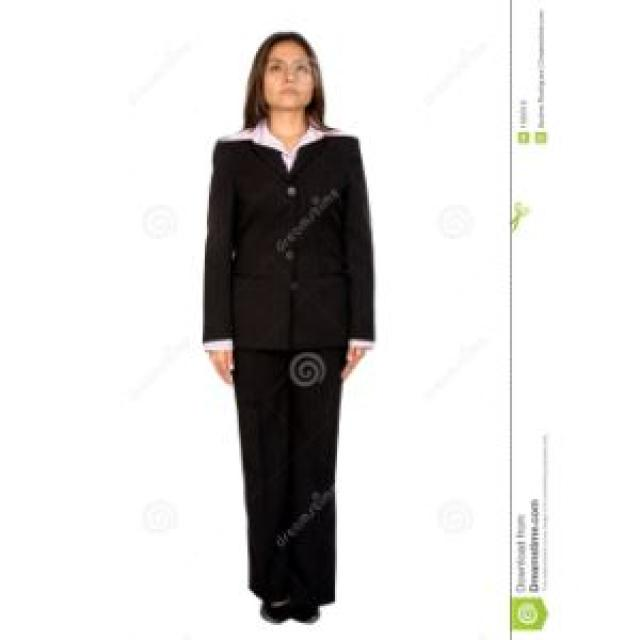adult: (164, 13, 397, 640)
